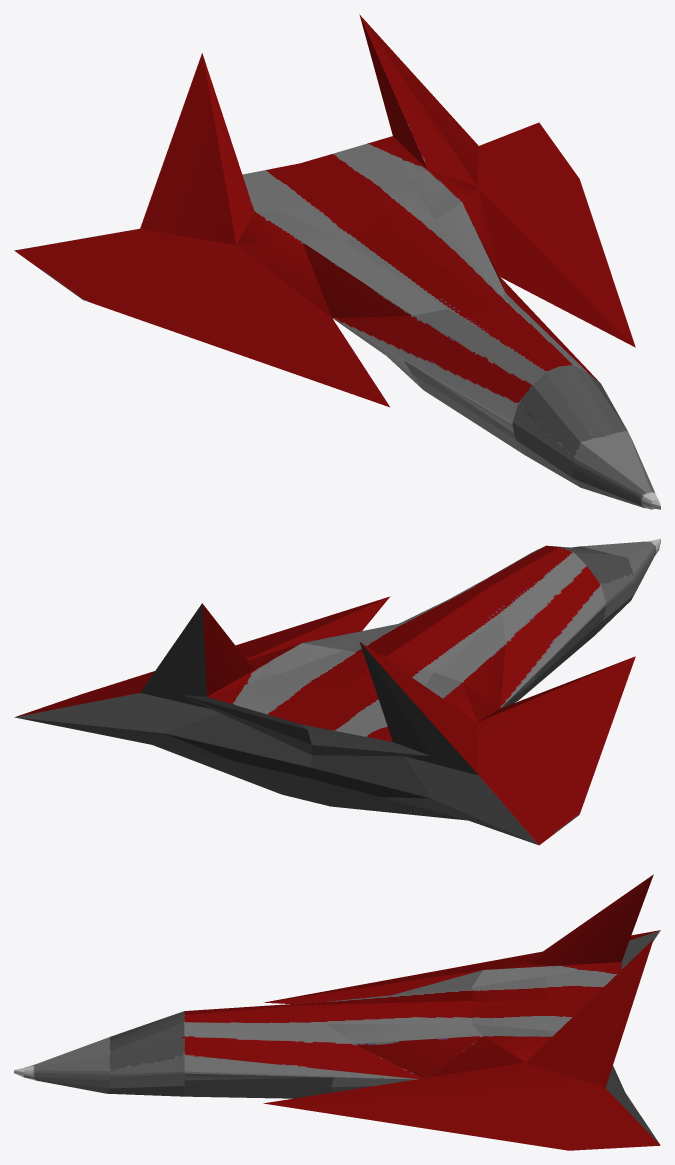
File: enemyFighter.obj
The picture shows the model from 3 angles, top to bottom: view 1: azimuth 30°, elevation 25°; view 2: azimuth 150°, elevation 25°; view 3: azimuth 270°, elevation 25°; orthographic projection. The views are drawn at different scales.
Visible parts, largest first — view 1: Cube; view 2: Cube; view 3: Cube.
Part boxes in pixels (x1=…): Cube: x1=14, y1=14, x2=660, y2=509; Cube: x1=14, y1=538, x2=660, y2=845; Cube: x1=14, y1=874, x2=660, y2=1150.
Size of the model in its own units: 4.15 by 1.59 by 5.26.
Materials: 1 (1 with a texture image).
